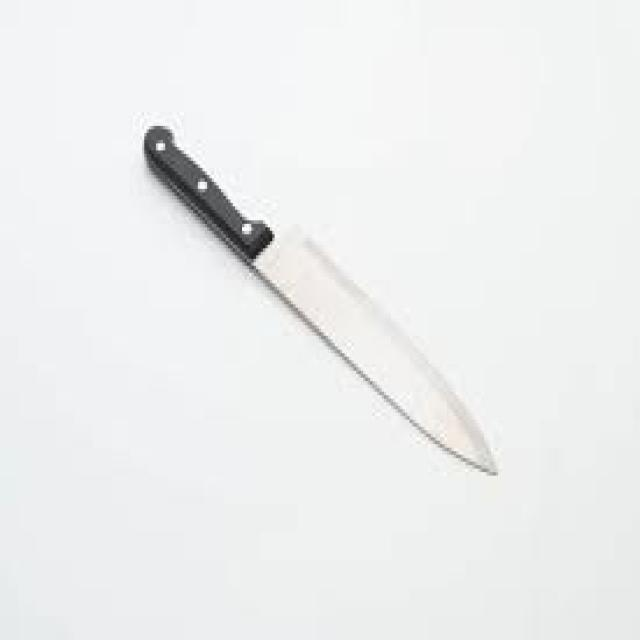Knife: (142, 122, 498, 476)
